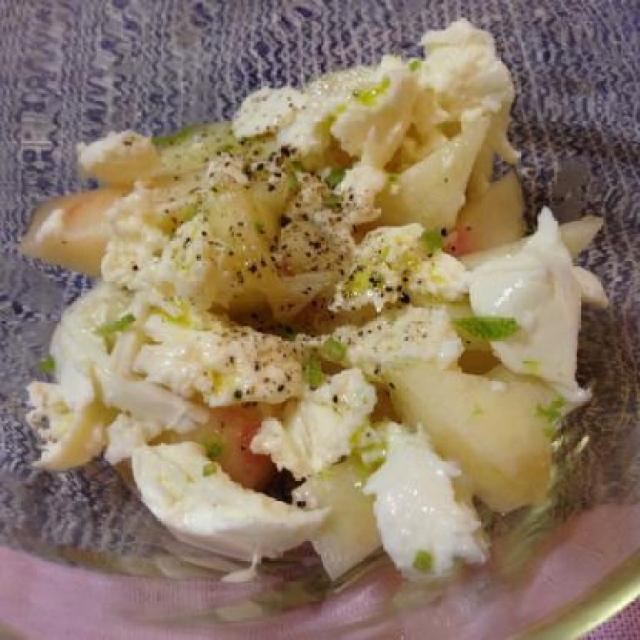Cheese: (7, 8, 551, 480), (457, 200, 628, 408), (366, 348, 552, 518), (127, 436, 336, 567), (356, 415, 498, 587)
